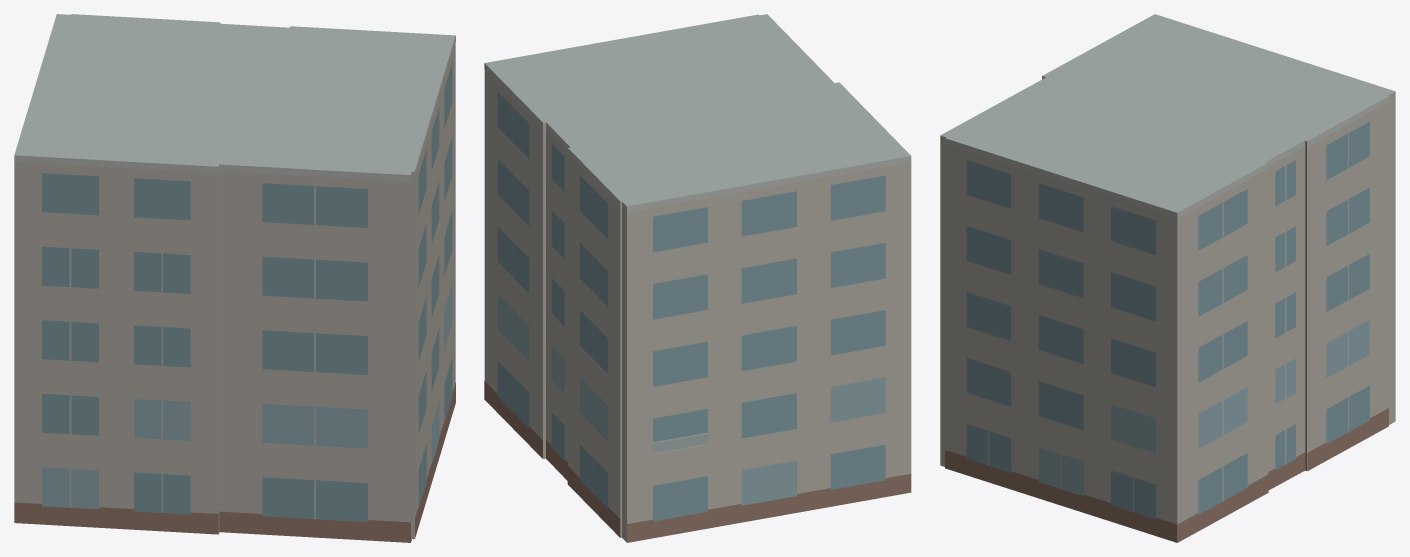
The model's file is survey-upis-33009614.glb.
3 views of the same model, side by side, from view 1: azimuth 30°, elevation 25°; view 2: azimuth 150°, elevation 25°; view 3: azimuth 270°, elevation 25° (orthographic). The views are drawn at different scales.
Visible parts, largest first — view 1: survey-upis-33009614.tmp; view 2: survey-upis-33009614.tmp; view 3: survey-upis-33009614.tmp.
Part boxes in pixels (x1,y1,x2,y2): survey-upis-33009614.tmp: (14, 14, 455, 542); survey-upis-33009614.tmp: (484, 14, 911, 542); survey-upis-33009614.tmp: (940, 14, 1395, 542).
Bounding box in the file's own units: 17.45 × 13.5 × 16.9.
